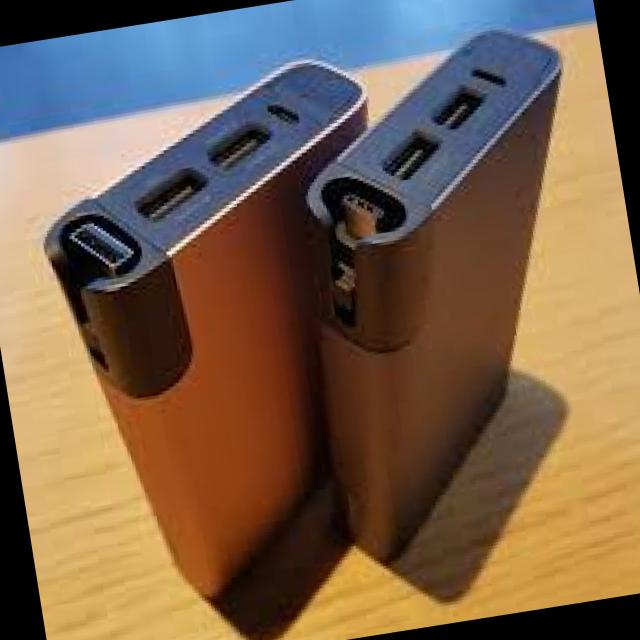power_bank: (13, 44, 450, 640), (263, 16, 640, 572)
